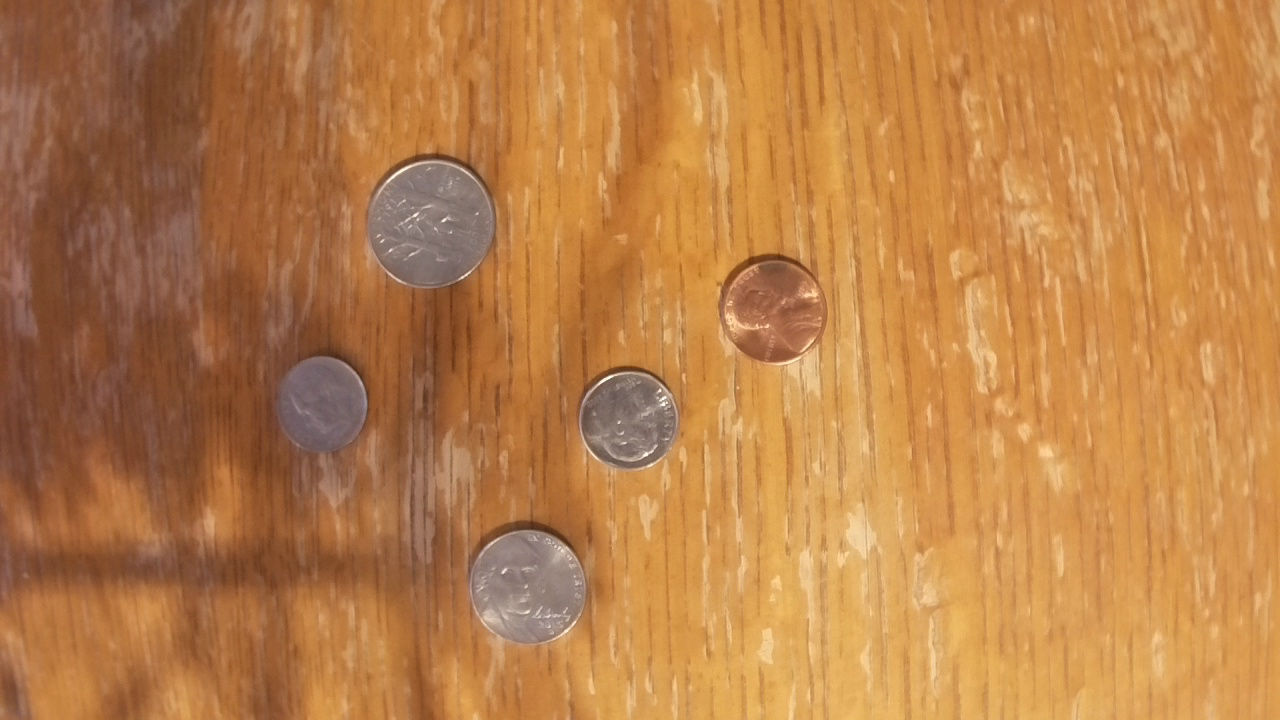dime: (573, 365, 681, 475), (274, 352, 374, 454)
nickel: (463, 524, 591, 652)
penny: (717, 252, 829, 368)
quarter: (360, 152, 502, 294)
